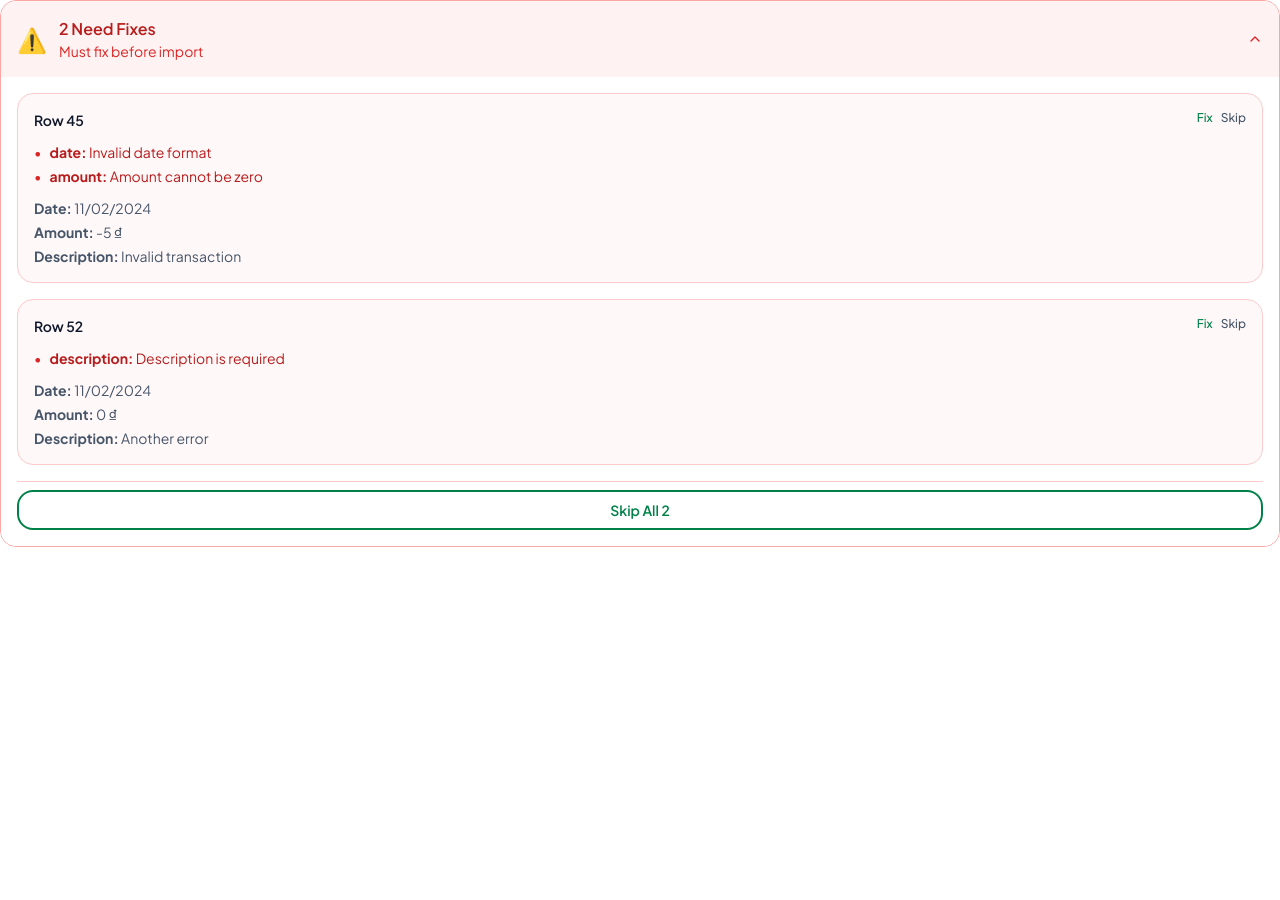
Test: ErrorSection › shows edit form when Fix button is clicked
Click the button "Fix" in the row of "45" at (1205, 118), box x1=1197 y1=110 x2=1213 y2=126
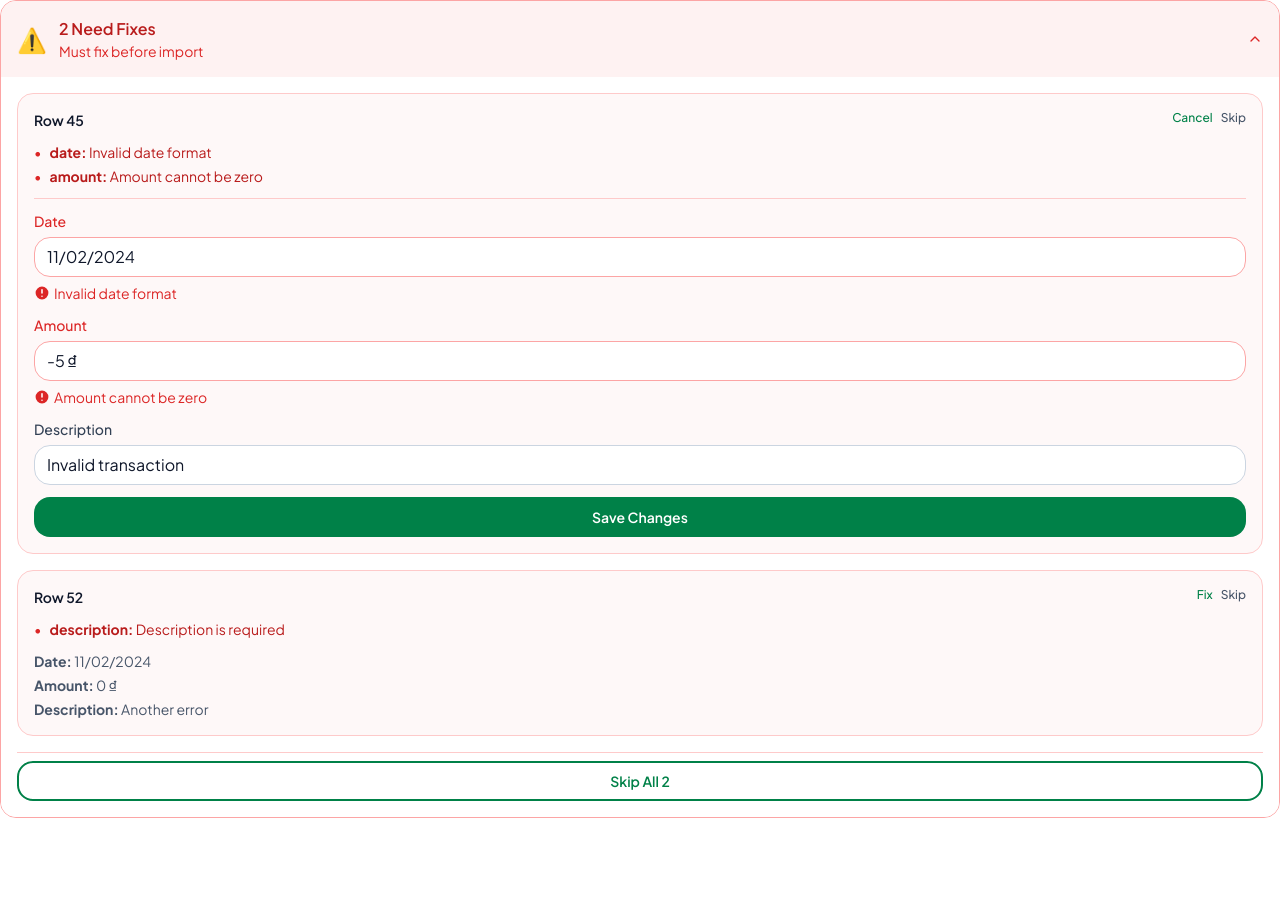
Check: the button "Cancel" is shown, box x1=1172 y1=110 x2=1213 y2=126
